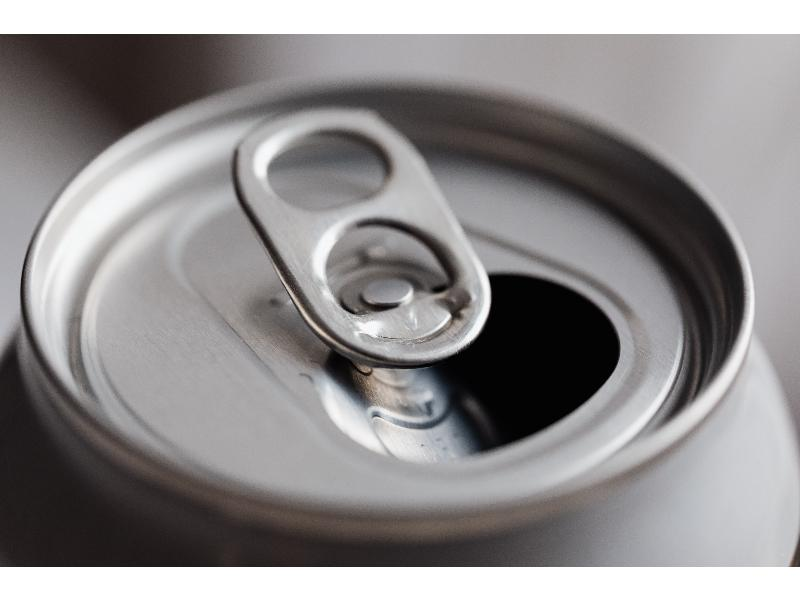can: (16, 66, 770, 556)
